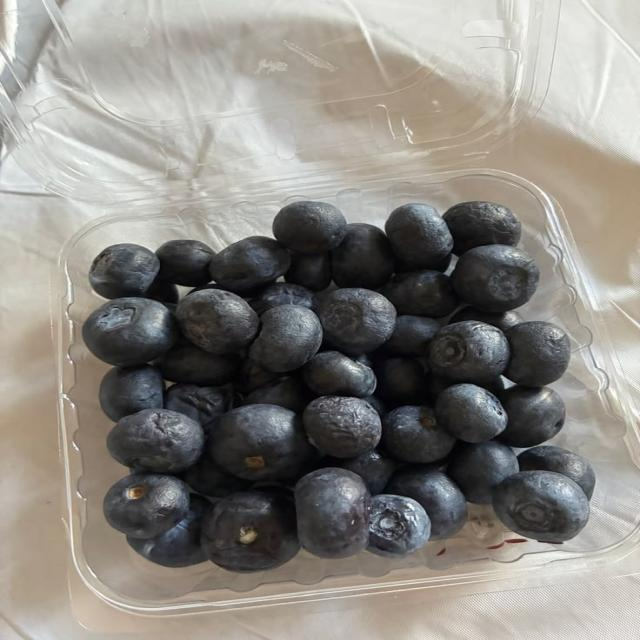blueberry: (208, 404, 316, 481), (202, 490, 299, 572), (493, 471, 589, 543), (295, 468, 370, 558), (82, 298, 179, 366), (107, 409, 205, 472), (127, 495, 210, 567), (386, 466, 466, 539), (452, 245, 539, 312), (103, 473, 189, 538), (177, 290, 259, 353), (318, 288, 396, 354), (429, 321, 510, 383), (249, 305, 322, 372), (303, 397, 381, 457), (447, 442, 519, 504), (386, 204, 453, 269), (210, 237, 290, 291), (505, 321, 570, 386), (443, 201, 521, 255), (382, 406, 455, 463), (435, 384, 506, 442), (367, 494, 431, 557), (332, 224, 394, 289), (519, 446, 595, 499), (499, 386, 565, 447), (273, 201, 346, 254), (89, 244, 159, 298), (155, 344, 241, 386), (100, 365, 164, 421), (381, 271, 457, 318), (303, 351, 376, 397), (165, 384, 233, 433), (328, 449, 396, 495), (182, 454, 249, 497), (156, 240, 214, 287), (374, 358, 426, 407), (243, 376, 313, 412), (384, 315, 440, 356), (249, 283, 317, 315), (285, 252, 332, 291), (449, 306, 522, 331), (235, 359, 280, 394), (427, 373, 460, 403), (144, 278, 179, 304), (426, 372, 455, 403), (363, 396, 387, 418), (480, 377, 505, 396), (187, 283, 226, 295), (429, 254, 453, 272), (187, 283, 224, 294), (353, 353, 373, 369)
